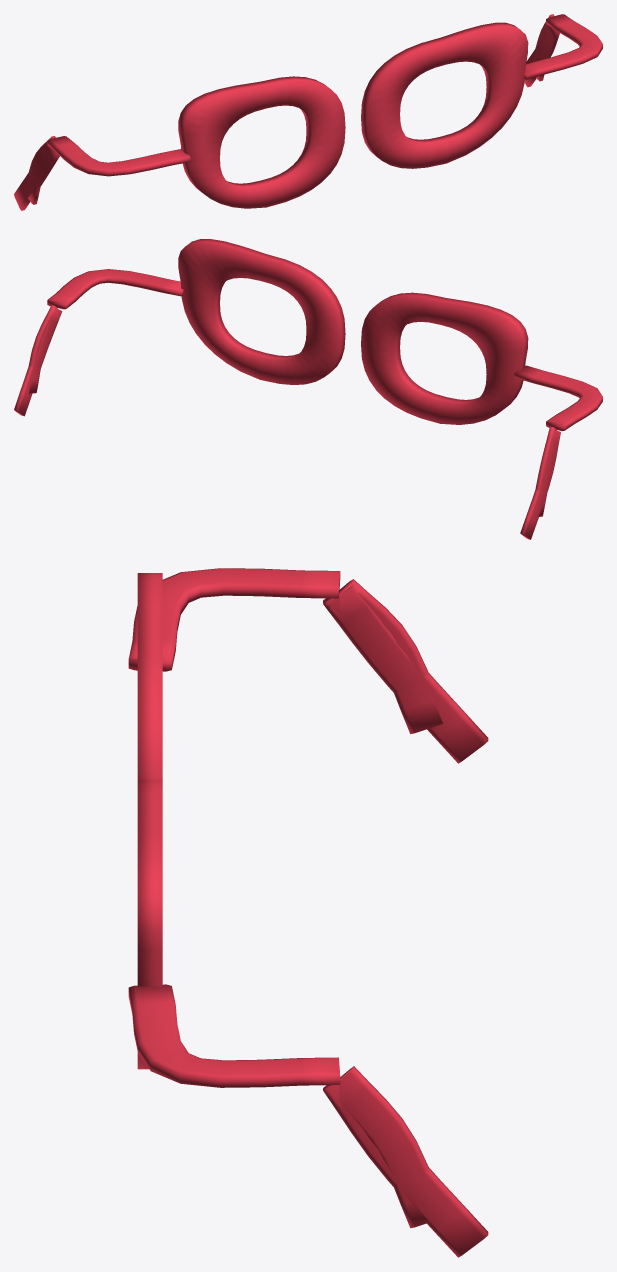
Rendered from hero_mask-monkey.glb.
3 renders of one model, top to bottom at view 1: azimuth 30°, elevation 25°; view 2: azimuth 150°, elevation 25°; view 3: azimuth 270°, elevation 25°, orthographic. The views are drawn at different scales.
Visible parts, largest first — view 1: mask, mask.001, tie.001, tie, tail.003, tail.002, tail.001; view 2: mask, mask.001, tie, tie.001, tail.001, tail.002, tail.003, tail; view 3: tie, tie.001, tail.003, mask, mask.001, tail, tail.001, tail.002.
Part boxes in pixels (x1,y1,x2,y2): mask: (361, 22, 528, 168); mask.001: (178, 76, 345, 208); tie.001: (47, 136, 190, 176); tie: (524, 14, 602, 79); tail.003: (14, 151, 59, 210); tail.002: (28, 136, 55, 204); tail.001: (524, 16, 559, 87); mask: (178, 239, 345, 384); mask.001: (361, 292, 528, 424); tie: (47, 269, 183, 309); tie.001: (514, 365, 602, 431); tail.001: (14, 307, 62, 416); tail.002: (535, 426, 558, 516); tail.003: (520, 431, 560, 539); tail: (28, 305, 61, 393); tie: (128, 984, 340, 1087); tie.001: (128, 568, 340, 671); tail.003: (323, 585, 488, 763); mask: (137, 779, 162, 1069); mask.001: (137, 573, 162, 779); tail: (339, 1066, 429, 1228); tail.001: (323, 1085, 488, 1257); tail.002: (325, 579, 442, 734).
Size of the model in its own units: 1.35 by 0.3604 by 0.4031.
